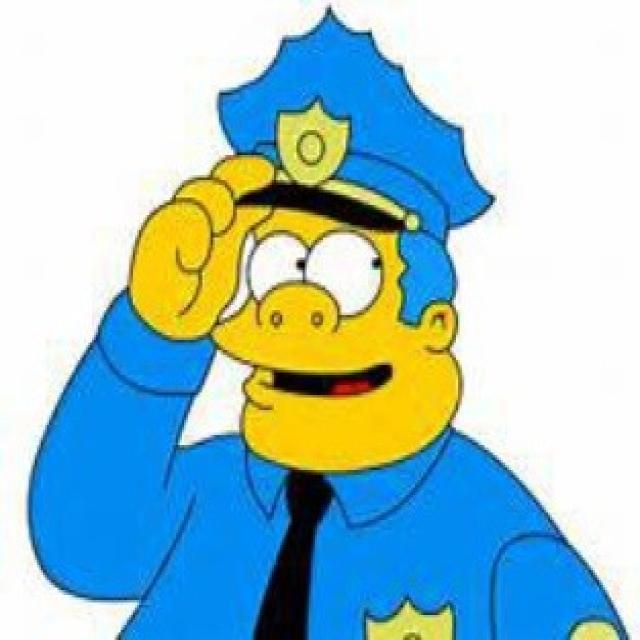Chief Wiggam: (193, 4, 498, 481)
